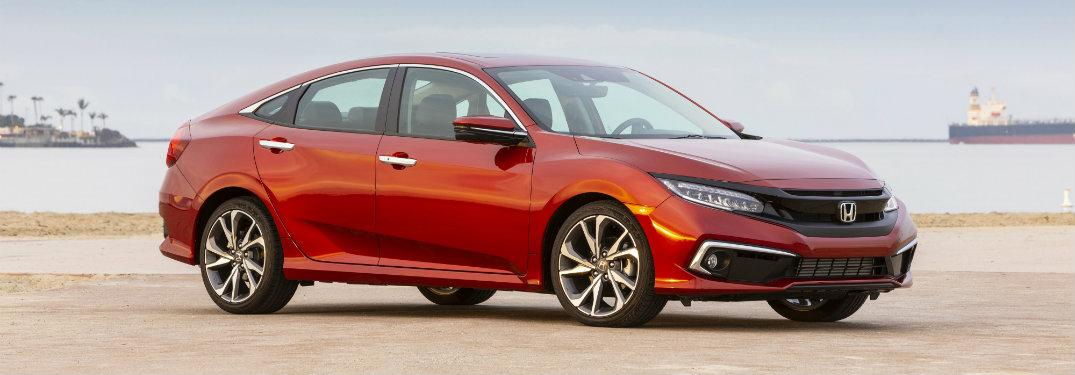car: (152, 61, 920, 326)
